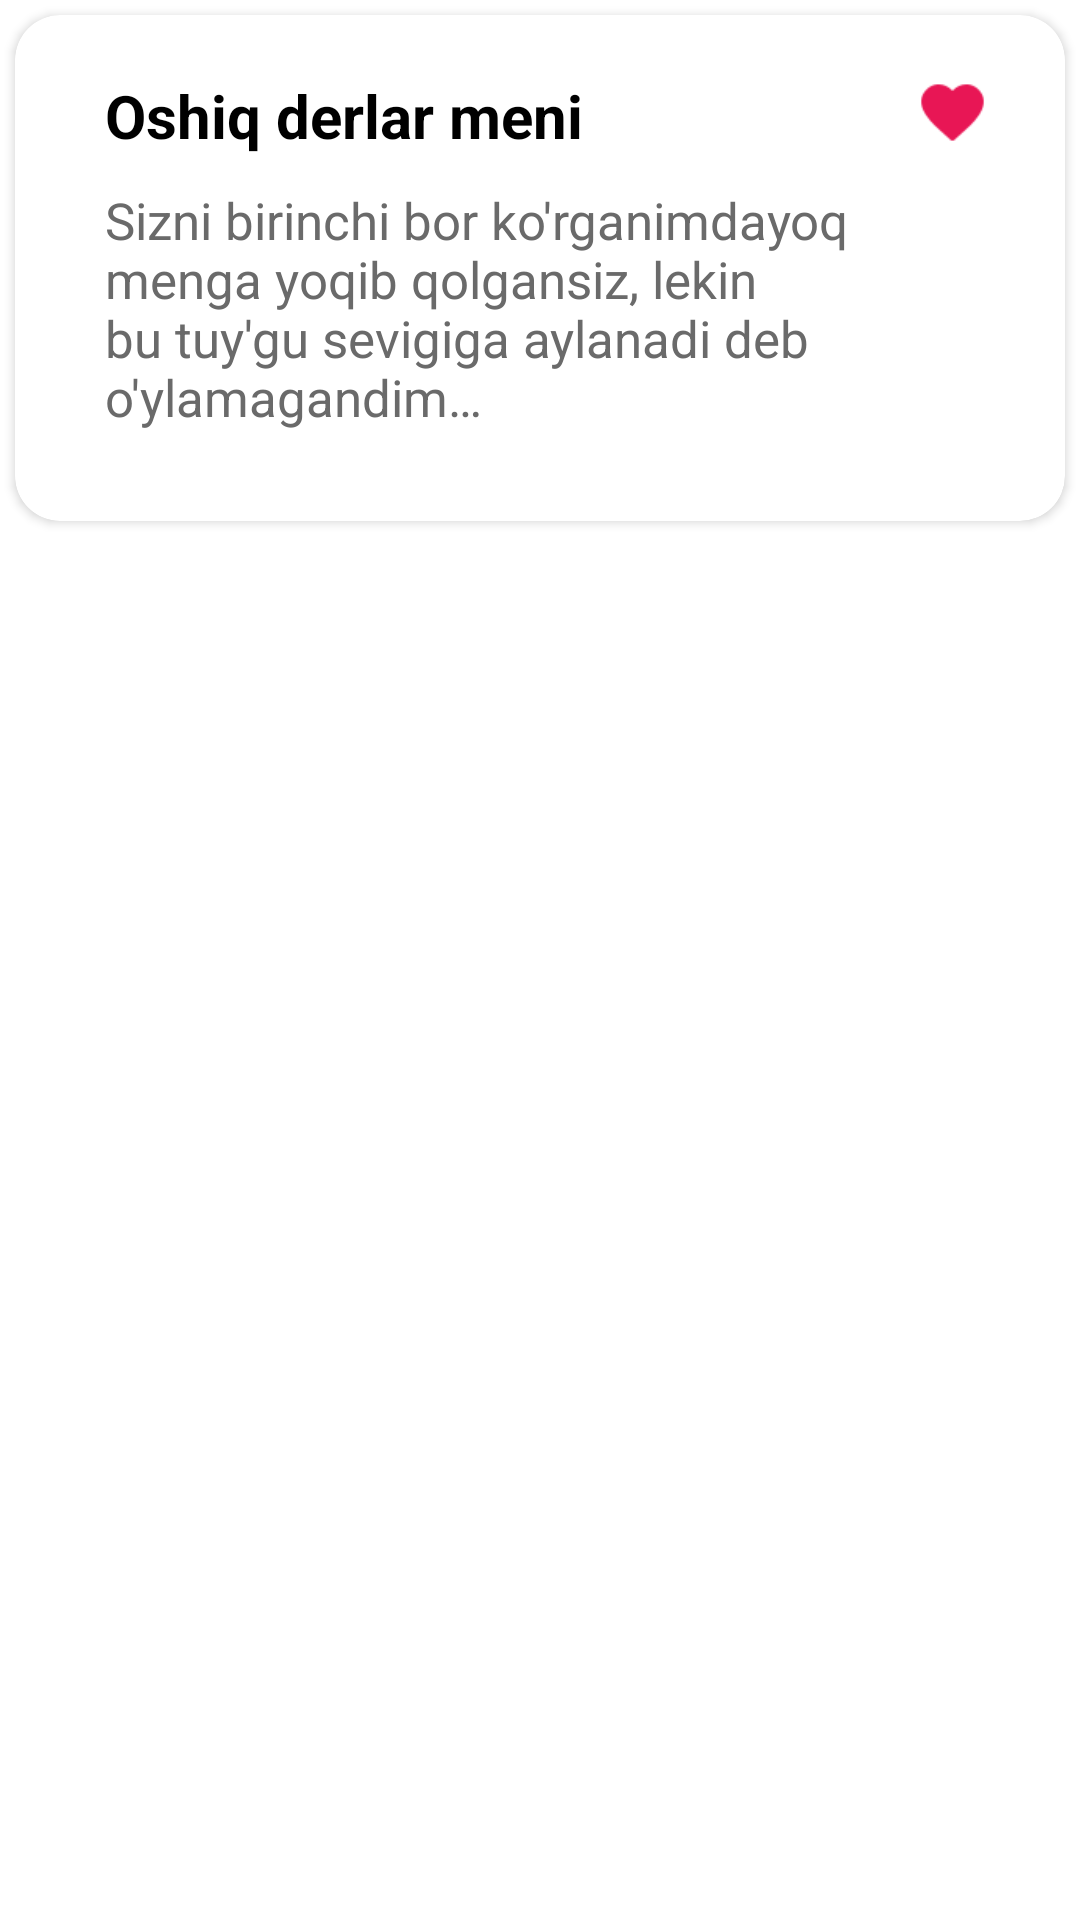

Locate icon controls on the screen. Image size 1080 x 1920, boxes as (x1, y1, x2, y2).
heart: (921, 84, 984, 141)
